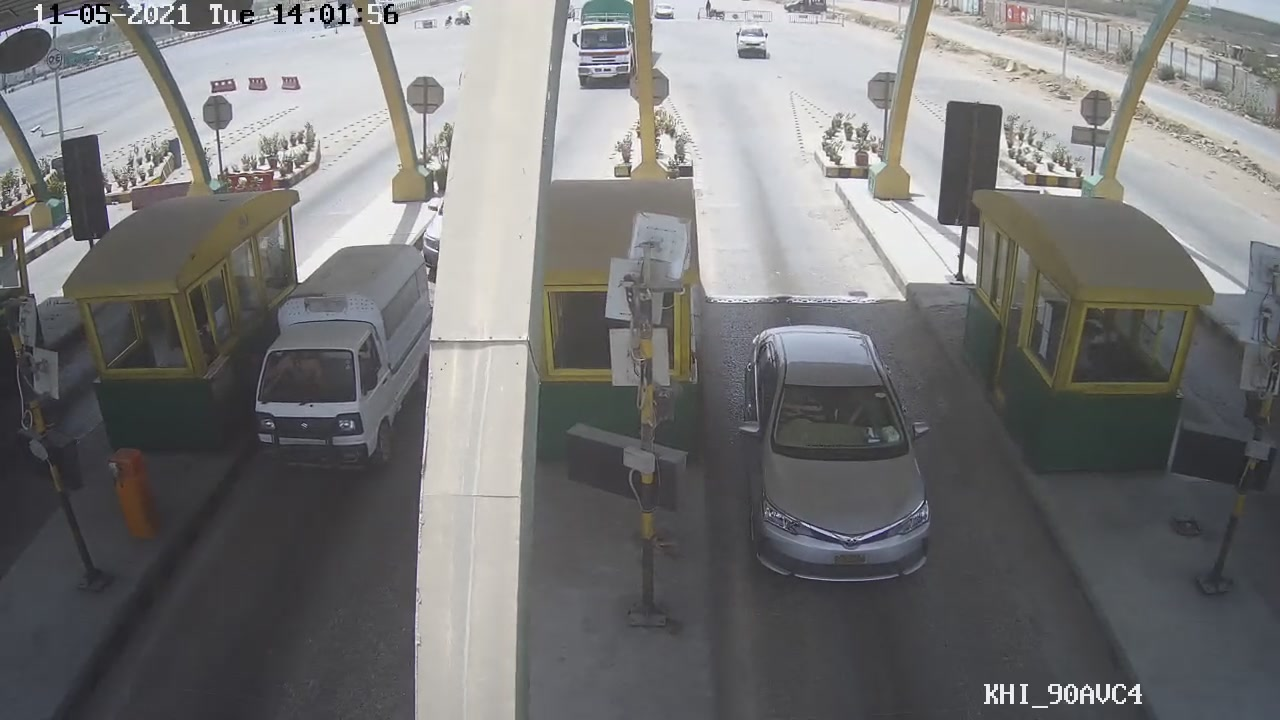F1: (738, 322, 933, 592)
